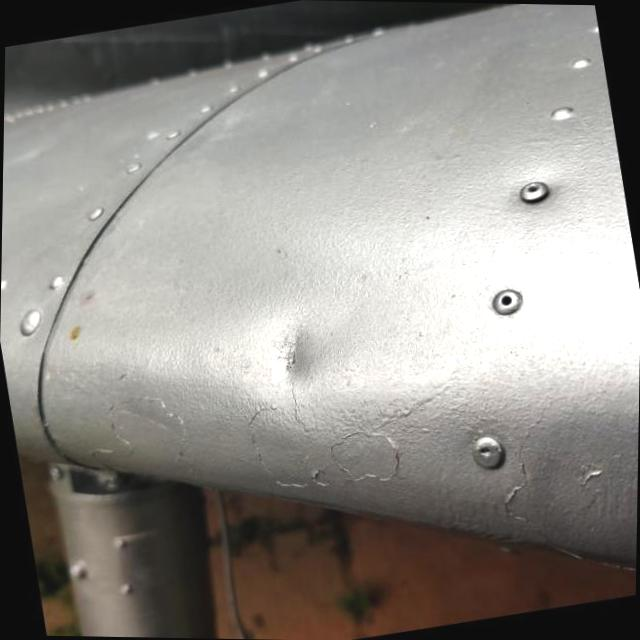dent: (260, 314, 333, 404)
